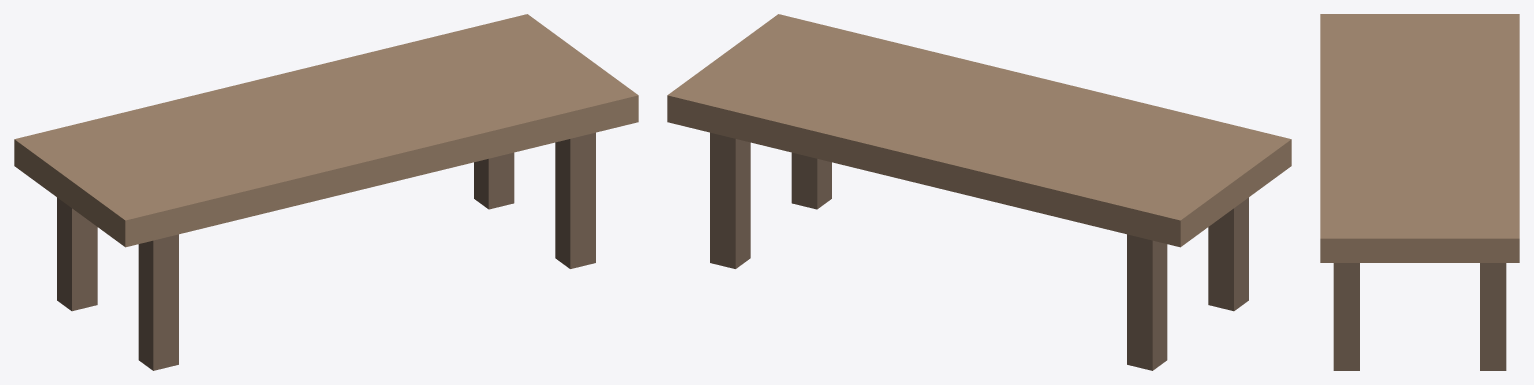
The model's file is museum_bench.glb.
3 renders of one model, left to right at view 1: azimuth 30°, elevation 25°; view 2: azimuth 150°, elevation 25°; view 3: azimuth 270°, elevation 25°, orthographic. The views are drawn at different scales.
Parts seen in each view (by area): view 1: MuseumBench; view 2: MuseumBench; view 3: MuseumBench.
Part boxes in pixels (bbox=[...]): MuseumBench: bbox=[14, 14, 638, 370]; MuseumBench: bbox=[667, 14, 1291, 370]; MuseumBench: bbox=[1320, 14, 1519, 370].
Size of the model in its own units: 1.6 by 0.49 by 0.6.
